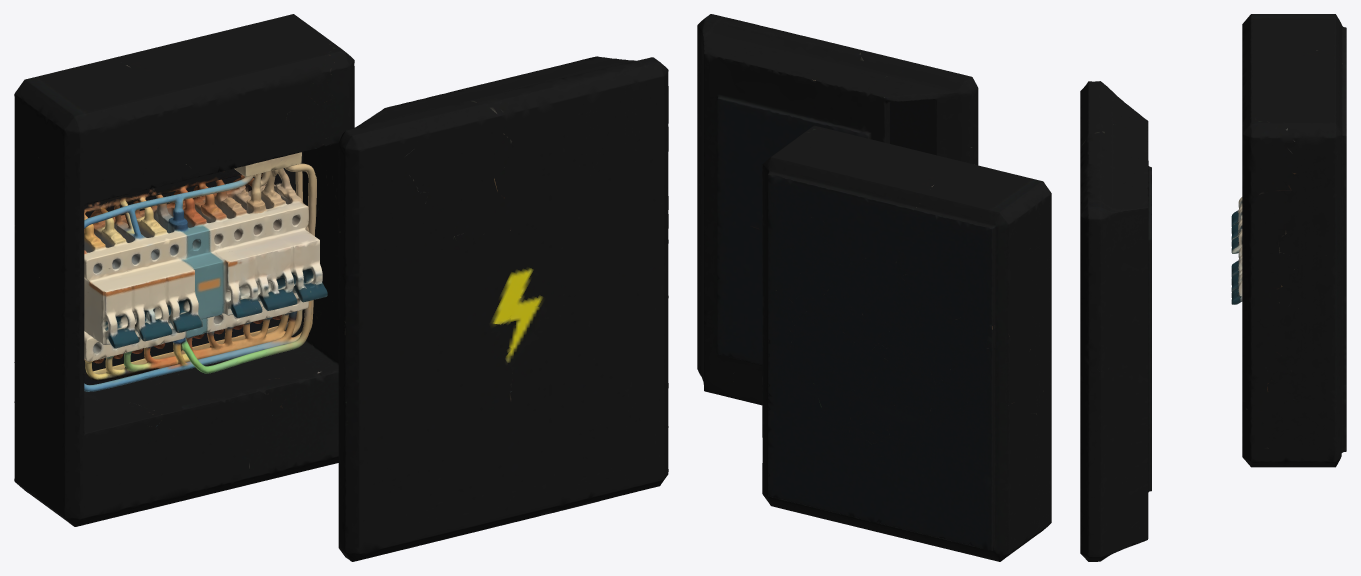
File: Taco_Luz.glb
3 views of the same model, side by side, from view 1: azimuth 30°, elevation 25°; view 2: azimuth 150°, elevation 25°; view 3: azimuth 270°, elevation 25° (orthographic). The views are drawn at different scales.
Size of the model in its own units: 1.9 by 1.53 by 1.03.
1 material, 1 textured.
